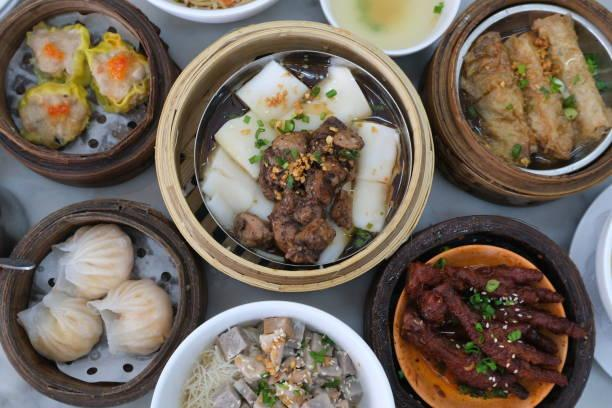Braised Crucian Carp: (156, 20, 431, 293), (364, 214, 596, 407), (0, 196, 204, 405), (421, 1, 609, 207), (0, 0, 181, 188), (148, 300, 394, 407)
